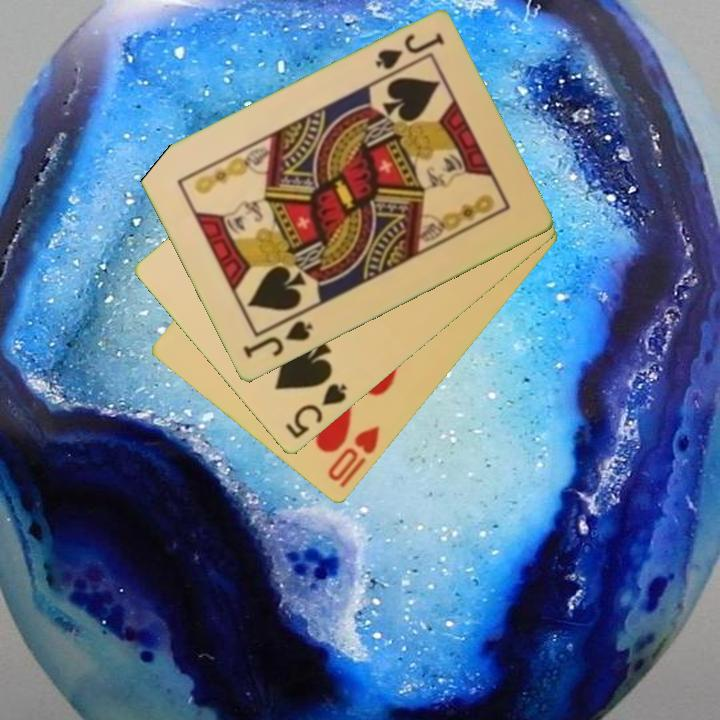10h: (324, 422, 383, 492)
5s: (282, 380, 351, 443)
Js: (239, 317, 316, 362), (371, 29, 448, 73)
